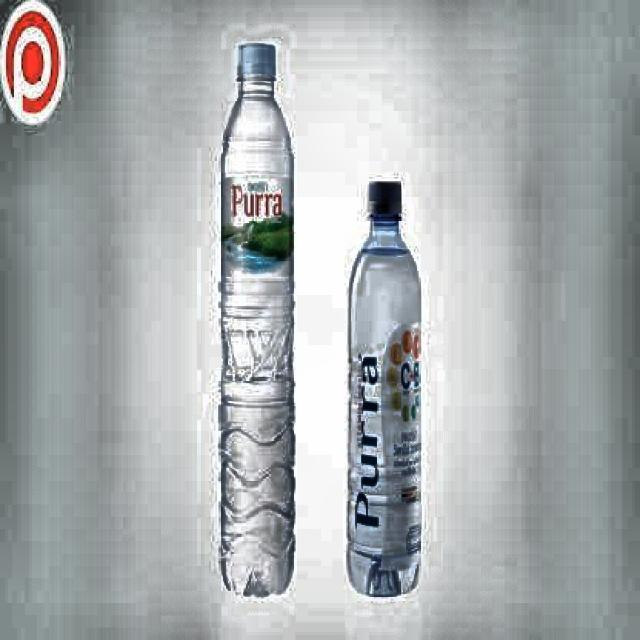Bottles: (202, 29, 308, 611), (330, 160, 439, 608)
